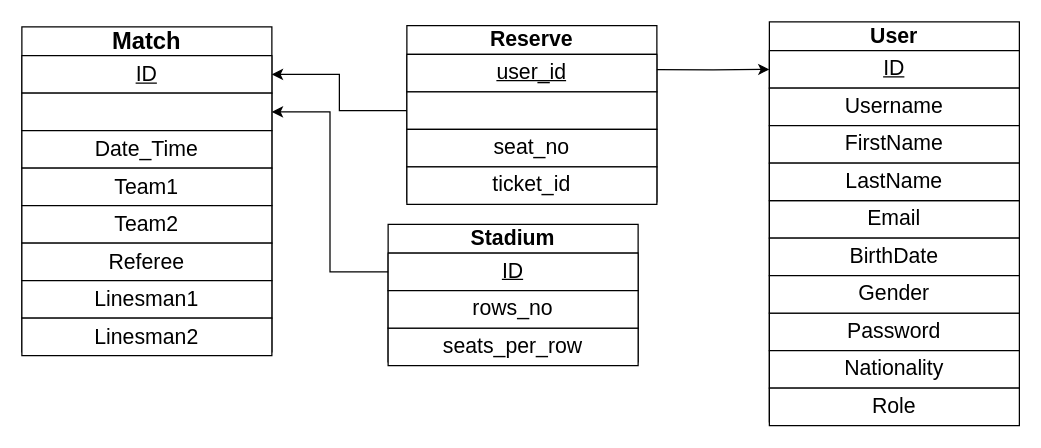
Image size: 1041x448. Some labels were removed from this diagram. The shapes that lost their labels are listed below. From the top down, each one's centre as x and y in pixels, then its label:
At [146,111]: "Stadium_ID".
At [531,110]: "match_id".
